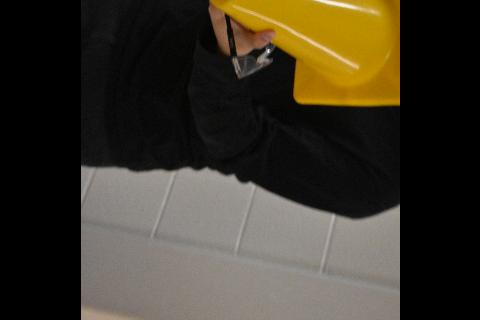cone: (208, 0, 400, 107)
